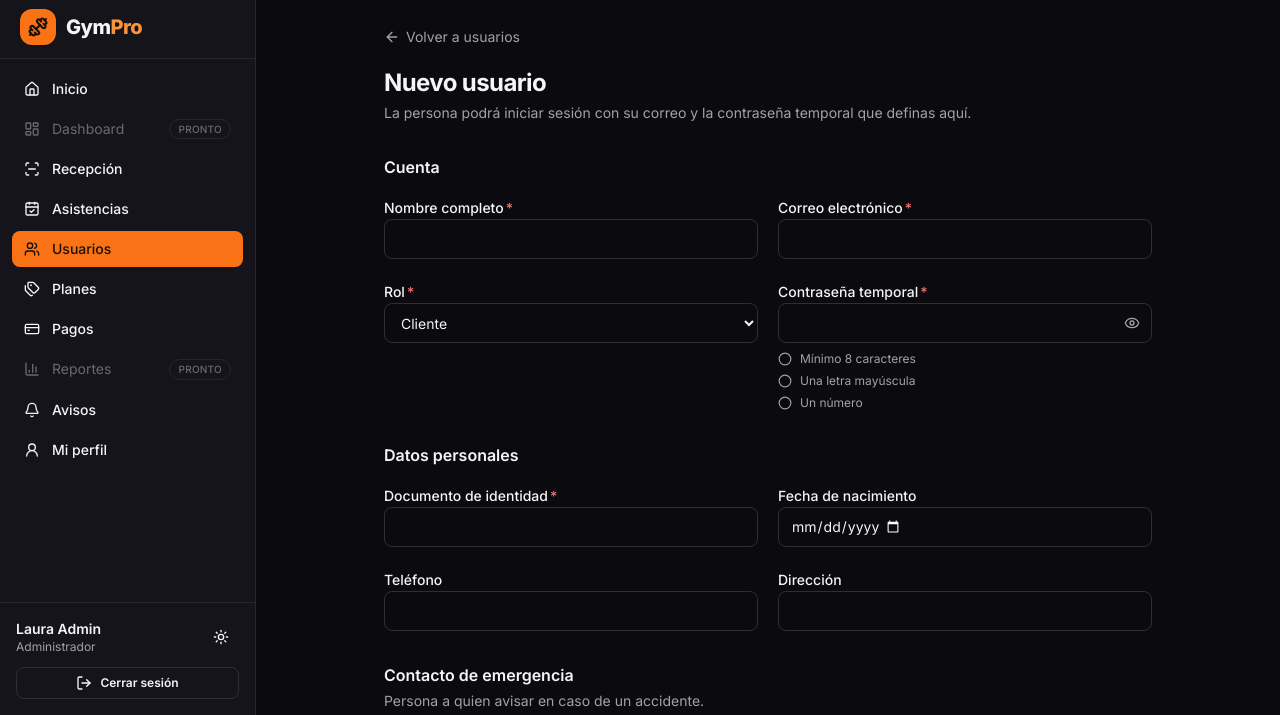
Test case: Nuevo usuario › exige el documento a los clientes y no envía nada hasta que se escribe
Expected: the heading "Nuevo usuario" is shown, x1=384 y1=68 x2=546 y2=97
Type "Ana Gómez" into the field labelled "Nombre completo*".
click(571, 239); type("Ana Gómez")  # box x1=384 y1=219 x2=758 y2=259
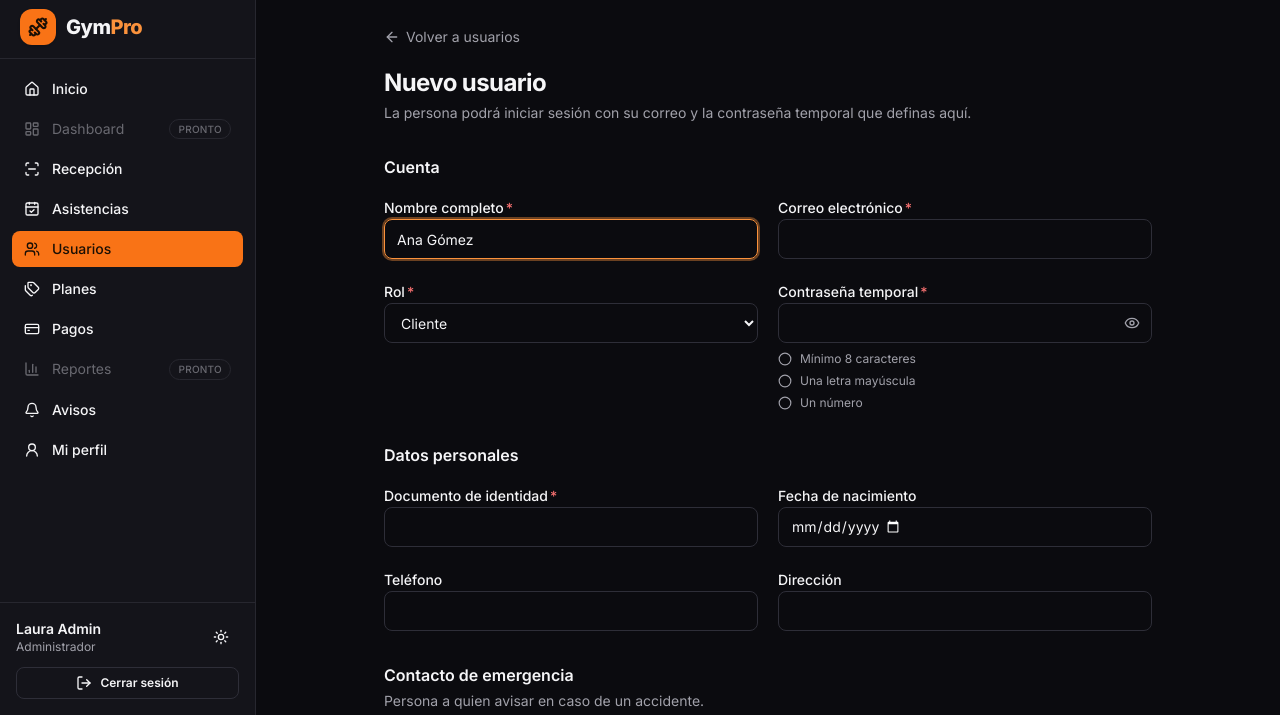
Type "ana@gympro.com" into the field labelled "Correo electrónico*".
click(965, 239); type("ana@gympro.com")  # box x1=778 y1=219 x2=1152 y2=259
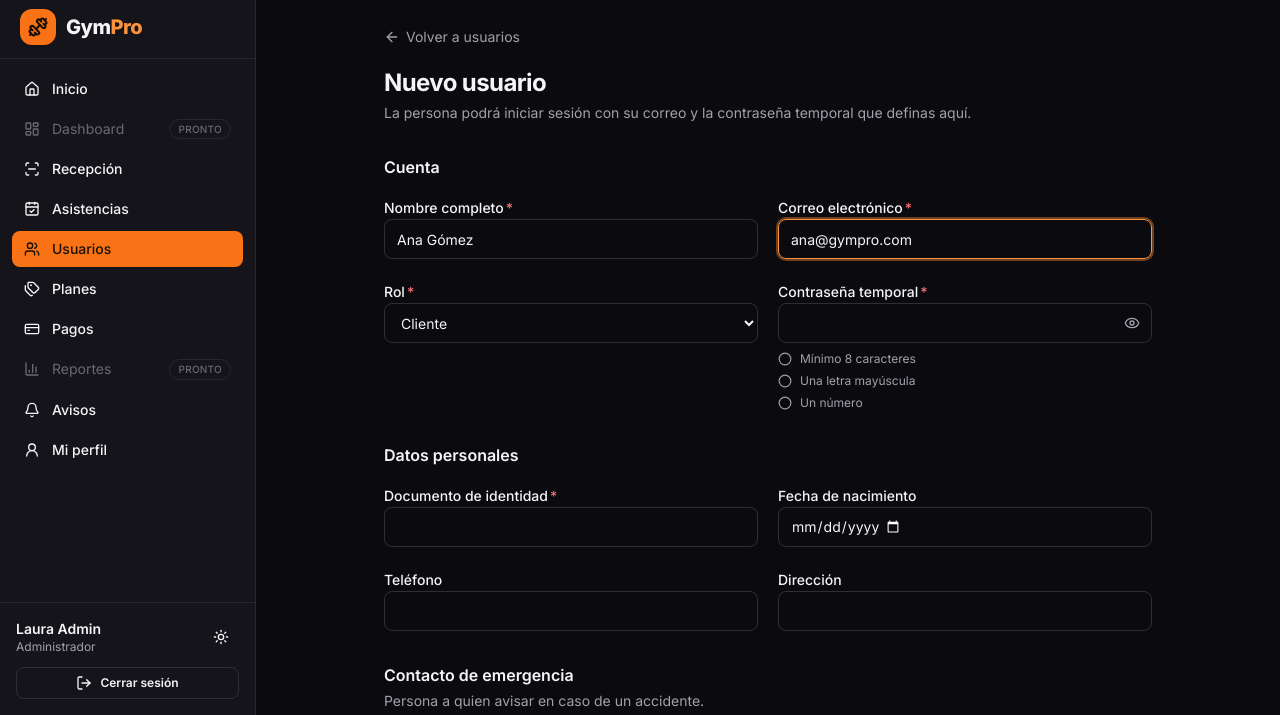
Type "Temporal123" into the password field labelled "Contraseña temporal*".
click(965, 323); type("Temporal123")  # box x1=778 y1=303 x2=1152 y2=343
(page scrolled)
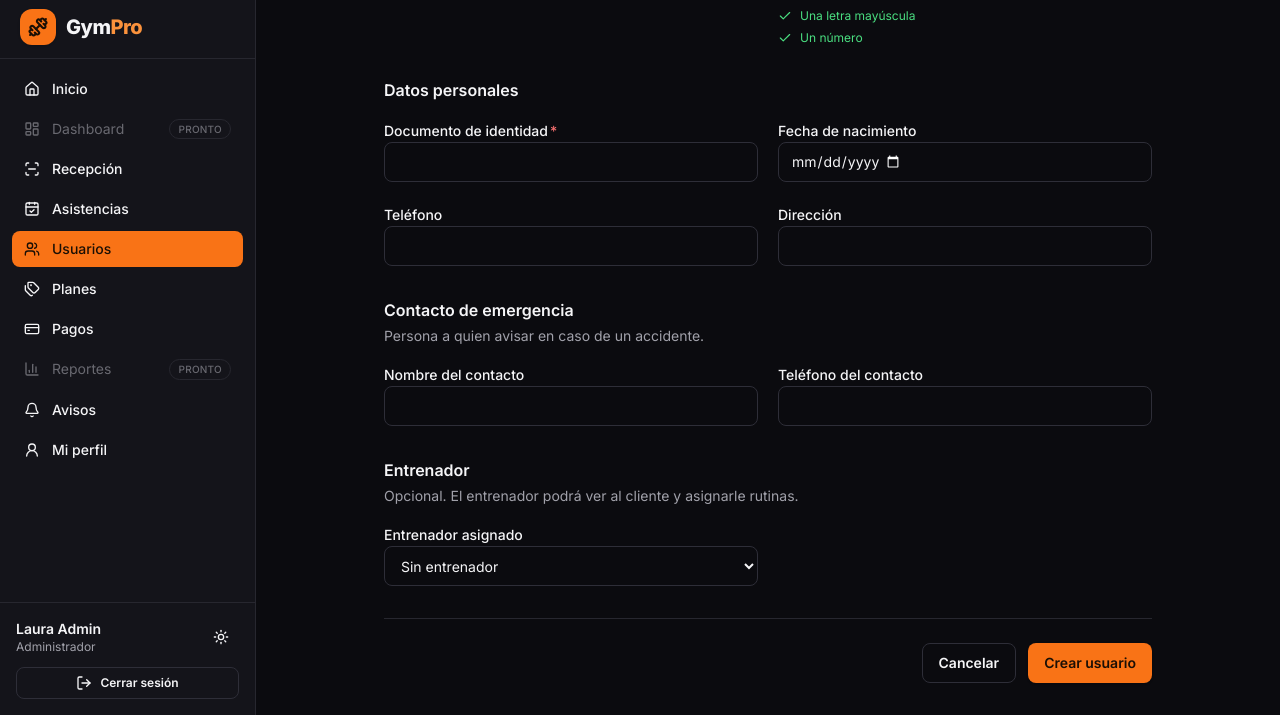
Click the button "Crear usuario".
click(1090, 663)  # box x1=1028 y1=643 x2=1152 y2=683
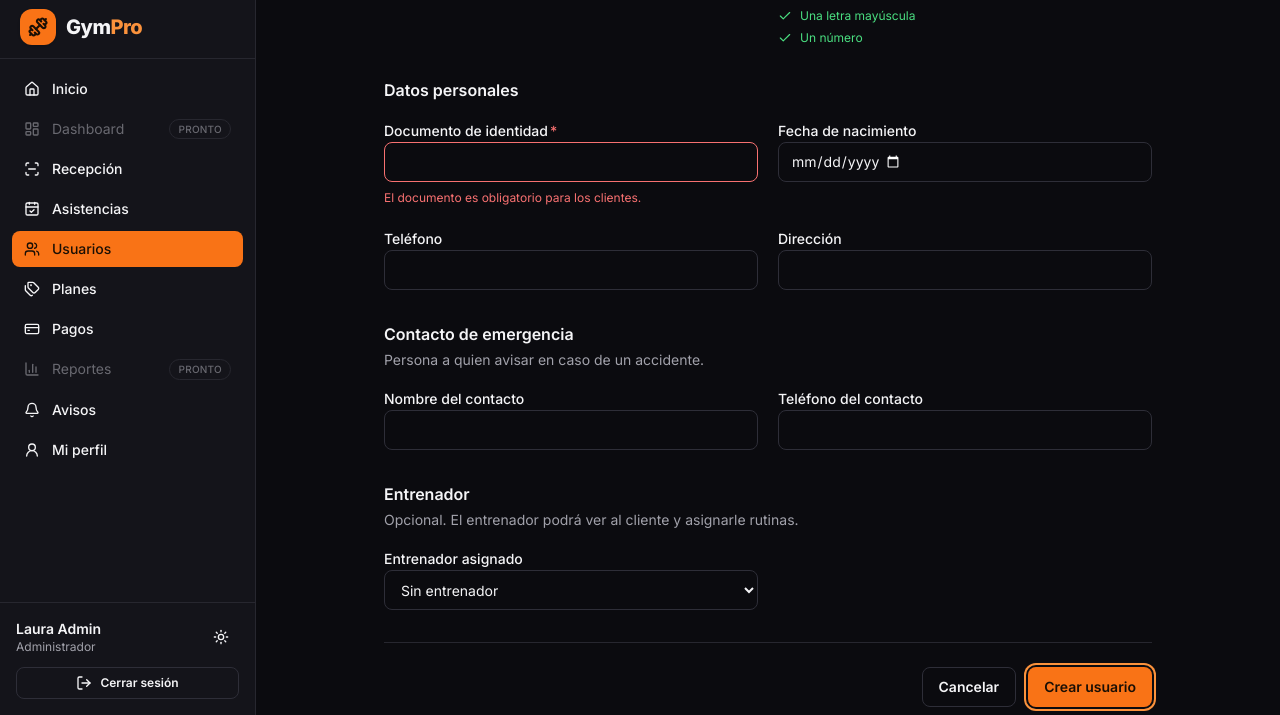
Now the text "El documento es obligatorio para los clientes." is shown, box x1=384 y1=190 x2=641 y2=205
